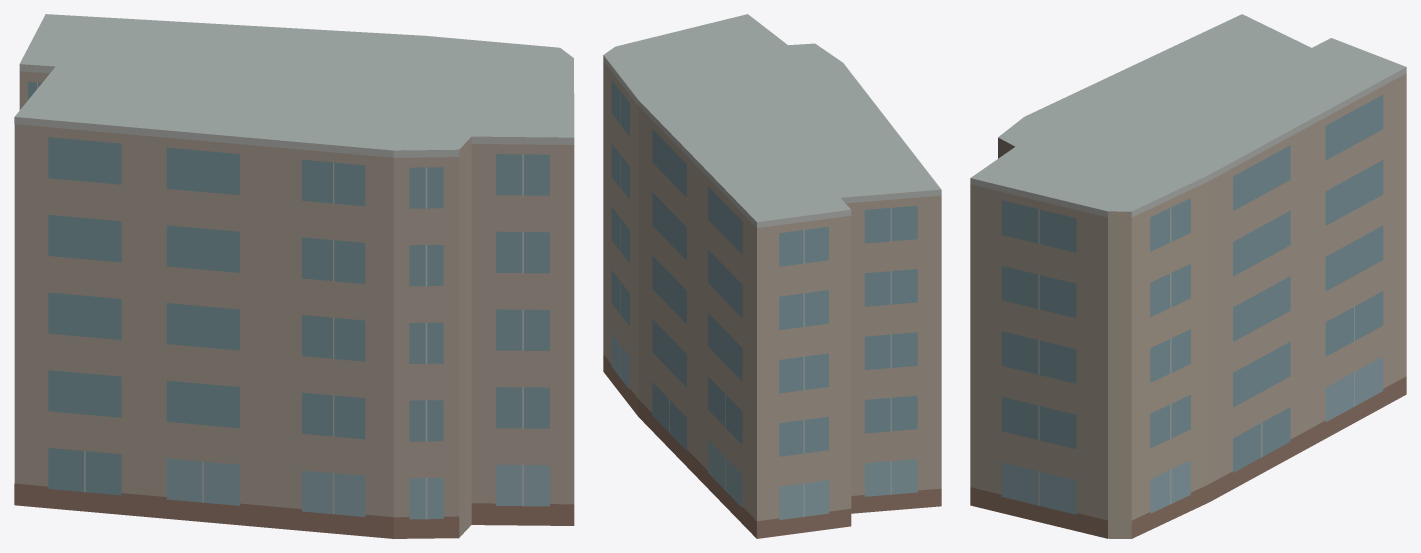
The model's file is survey-upis-32544895.glb.
The picture shows the model from 3 angles, left to right: view 1: azimuth 30°, elevation 25°; view 2: azimuth 150°, elevation 25°; view 3: azimuth 270°, elevation 25°; orthographic projection. The views are drawn at different scales.
Visible parts, largest first — view 1: survey-upis-32544895.tmp; view 2: survey-upis-32544895.tmp; view 3: survey-upis-32544895.tmp.
Boxes of the visible parts, x1,y1,x2,y2 form: survey-upis-32544895.tmp: [14, 14, 574, 538]; survey-upis-32544895.tmp: [603, 14, 941, 538]; survey-upis-32544895.tmp: [970, 14, 1406, 538].
Size of the model in its own units: 16.83 by 13 by 15.71.
